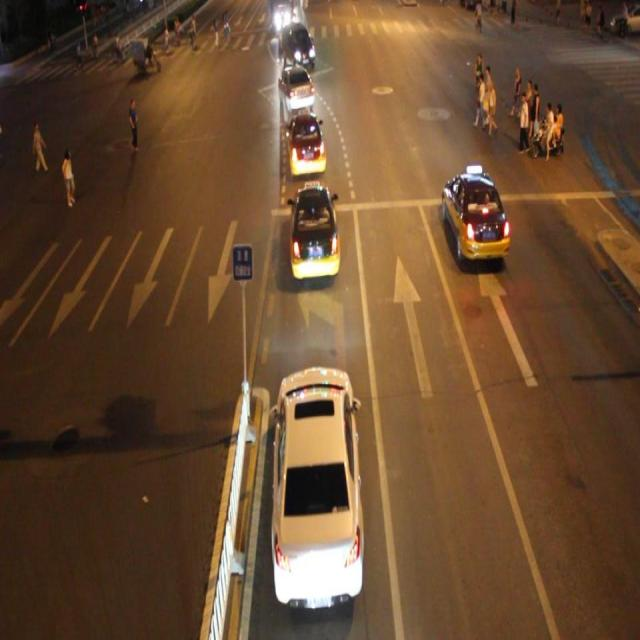car: (270, 367, 363, 604), (441, 170, 508, 260), (288, 185, 340, 278), (286, 112, 326, 177), (278, 20, 313, 68), (278, 67, 314, 113)
